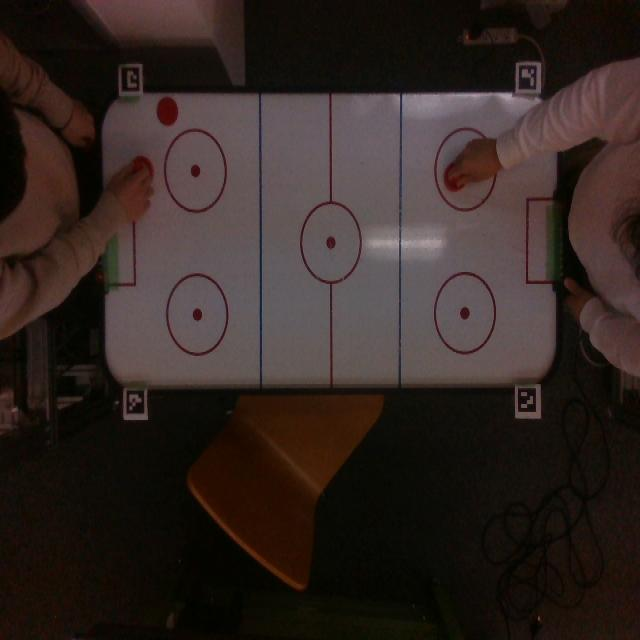puck: (157, 97, 178, 125)
